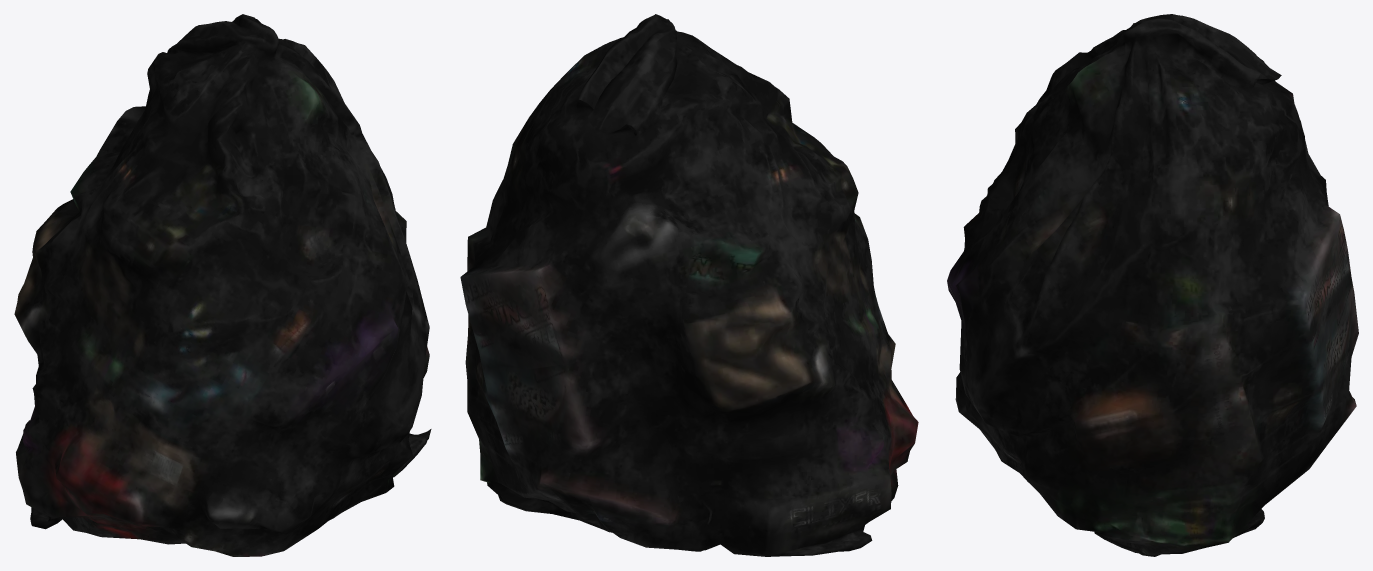
File: trashbag.glb
The picture shows the model from 3 angles, left to right: view 1: azimuth 30°, elevation 25°; view 2: azimuth 150°, elevation 25°; view 3: azimuth 270°, elevation 25°; orthographic projection. The views are drawn at different scales.
Visible parts, largest first — view 1: trashbag; view 2: trashbag; view 3: trashbag.
Part boxes in pixels (x1,y1,x2,y2): trashbag: (14, 14, 431, 556); trashbag: (460, 14, 918, 556); trashbag: (947, 14, 1358, 556).
Size of the model in its own units: 0.5281 by 0.575 by 0.4629.
Materials: 1 (1 with a texture image).
